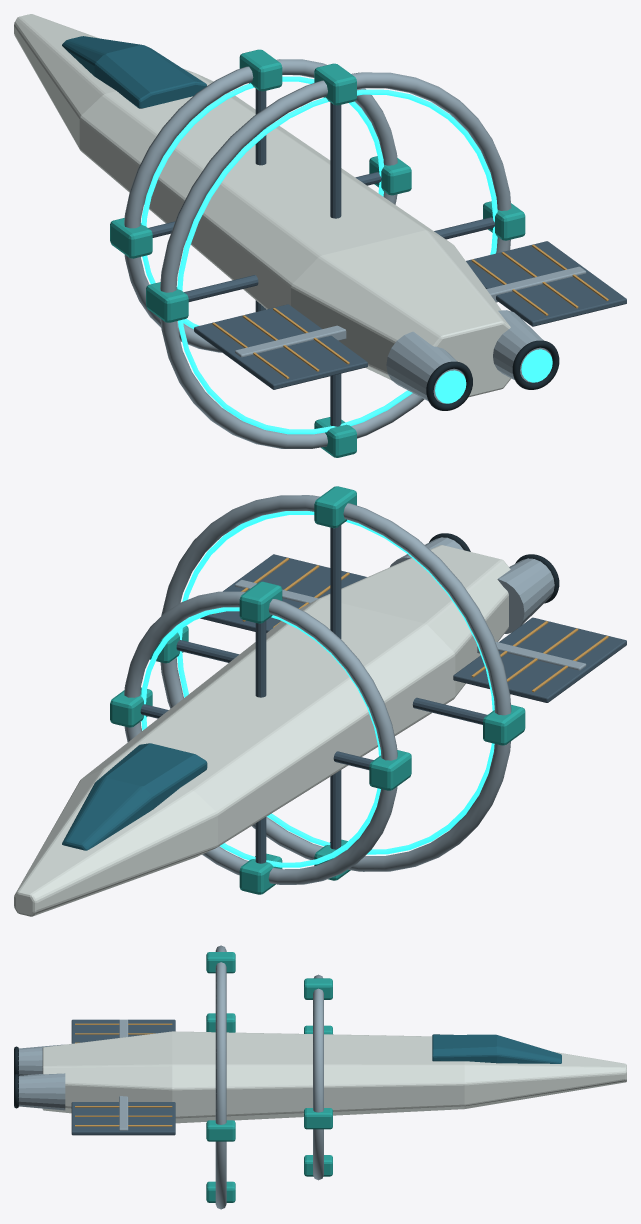
The model's file is izar_science.glb.
The picture shows the model from 3 angles, top to bottom: view 1: azimuth 30°, elevation 25°; view 2: azimuth 150°, elevation 25°; view 3: azimuth 270°, elevation 25°; orthographic projection. The views are drawn at different scales.
Visible parts, largest first — view 1: Geometry_izar_science; view 2: Geometry_izar_science; view 3: Geometry_izar_science.
Boxes of the visible parts, x1,y1,x2,y2 form: Geometry_izar_science: (14, 14, 626, 457); Geometry_izar_science: (14, 486, 626, 916); Geometry_izar_science: (14, 945, 626, 1209).
Size of the model in its own units: 8.35 by 8.35 by 18.88.
